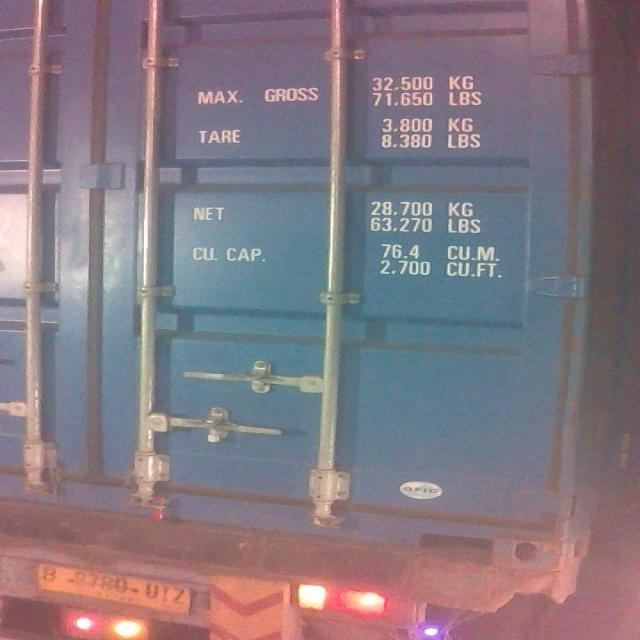seal: (144, 494, 177, 522), (202, 415, 228, 446)
